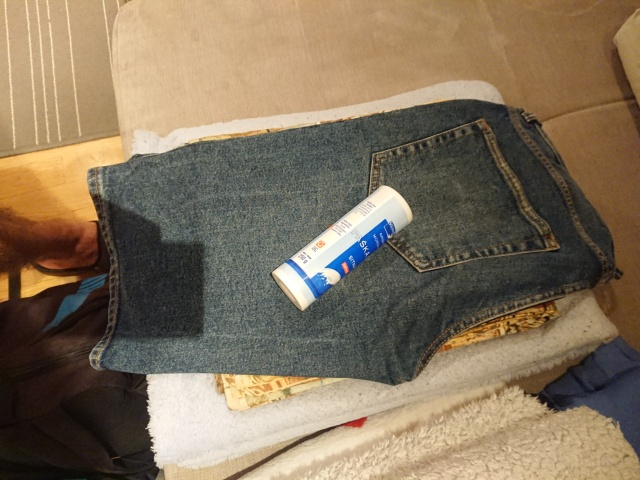Solana Pag Fine Sea Salt 250g: (269, 183, 415, 312)
